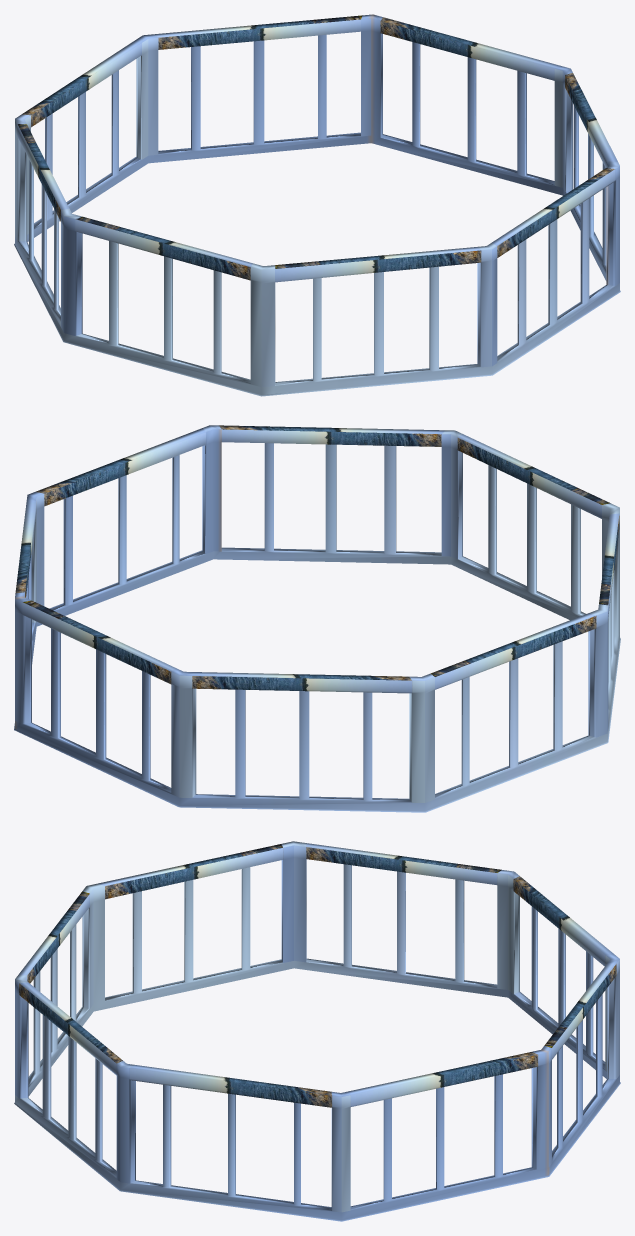
Rendered from LIghtHouse.fbx.
3 views of the same model, one above another, from view 1: azimuth 30°, elevation 25°; view 2: azimuth 150°, elevation 25°; view 3: azimuth 270°, elevation 25° (orthographic). The views are drawn at different scales.
Visible parts, largest first — view 1: Rails; view 2: Rails; view 3: Rails.
Boxes of the visible parts, left/top/right/bottom form: Rails: left=14, top=14, right=620, bottom=396; Rails: left=14, top=425, right=620, bottom=812; Rails: left=14, top=841, right=620, bottom=1221.
Bounding box in the file's own units: 4.88 × 1.1 × 4.88.
1 material, 1 textured.
